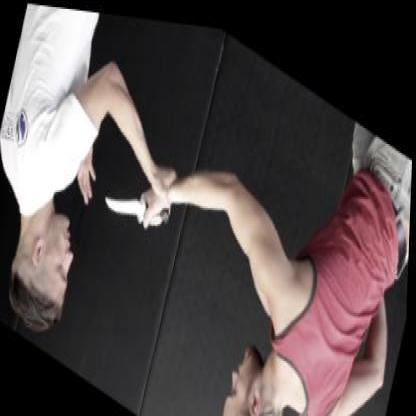knife: (100, 161, 176, 251)
